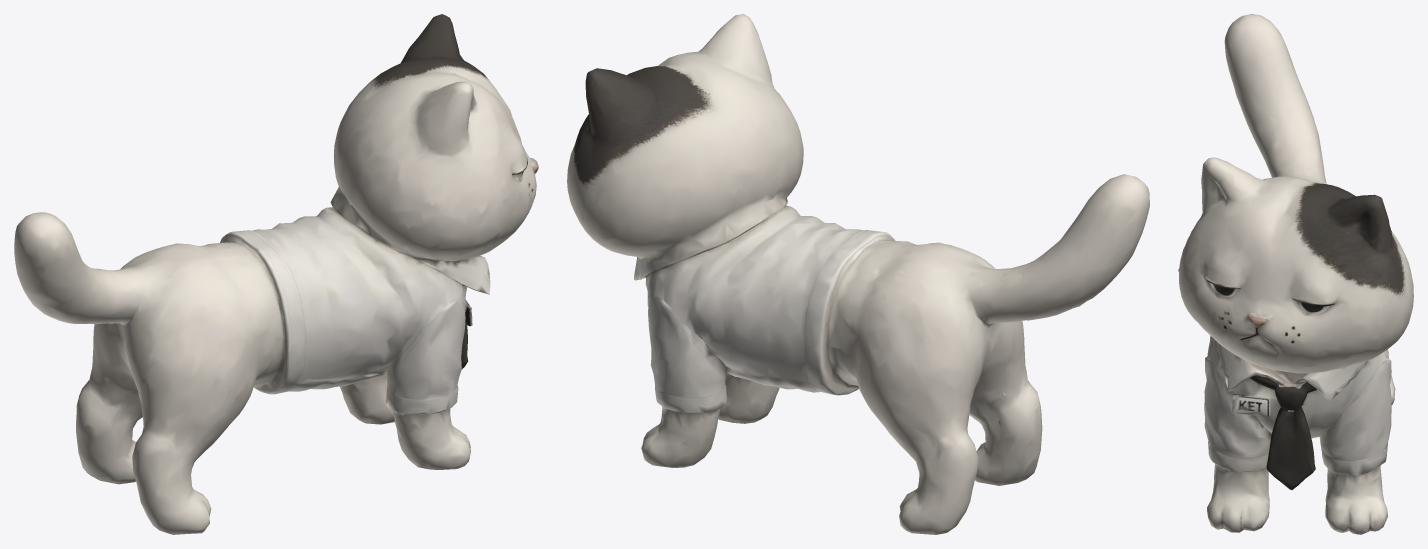
The model's file is ket-3.glb.
3 renders of one model, left to right at view 1: azimuth 30°, elevation 25°; view 2: azimuth 150°, elevation 25°; view 3: azimuth 270°, elevation 25°, orthographic. The views are drawn at different scales.
Parts seen in each view (by area): view 1: tripo_node_1ff21619-3442-40ed-8944-c1187ec5f112; view 2: tripo_node_1ff21619-3442-40ed-8944-c1187ec5f112; view 3: tripo_node_1ff21619-3442-40ed-8944-c1187ec5f112.
Boxes of the visible parts, x1,y1,x2,y2 form: tripo_node_1ff21619-3442-40ed-8944-c1187ec5f112: (14,14,538,534); tripo_node_1ff21619-3442-40ed-8944-c1187ec5f112: (567,14,1149,534); tripo_node_1ff21619-3442-40ed-8944-c1187ec5f112: (1178,14,1413,534).
Size of the model in its own units: 1.42 by 1 by 0.5755.
1 material, 1 textured.
